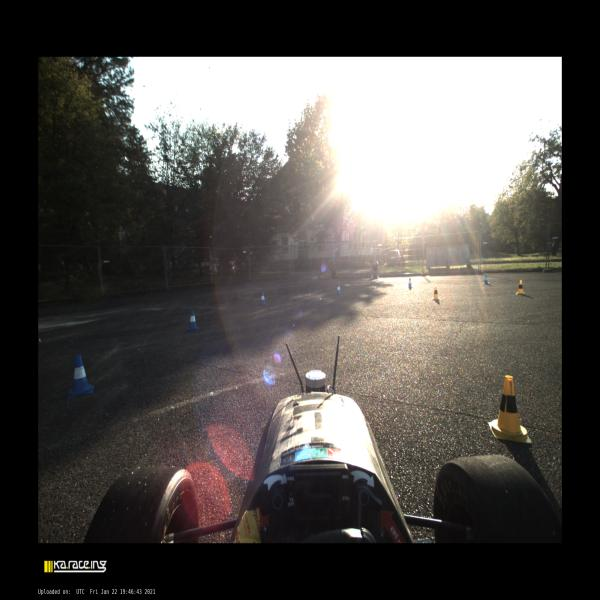blue_cone: (68, 354, 94, 399), (187, 309, 199, 331), (260, 291, 266, 305), (483, 274, 489, 284), (336, 284, 341, 295), (408, 278, 412, 288)
yellow_cone: (488, 376, 532, 443), (516, 280, 525, 295), (432, 286, 439, 300)
